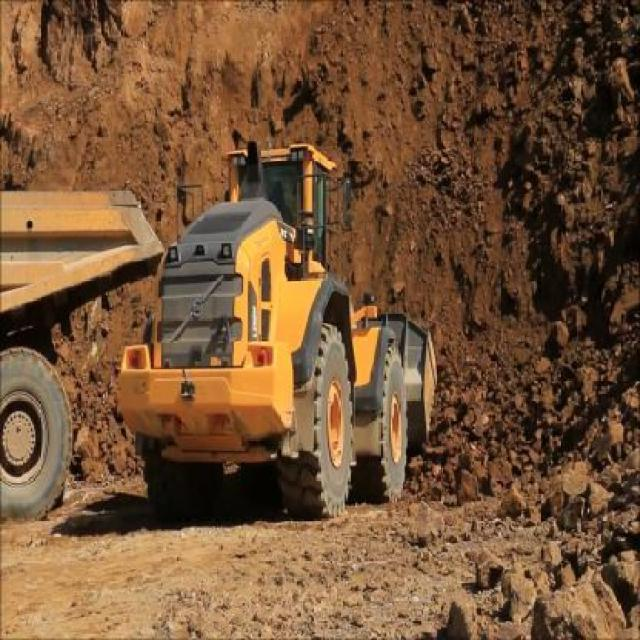buldozerpayloadergrader: (111, 138, 438, 524)
dump_truck: (2, 183, 164, 522)
